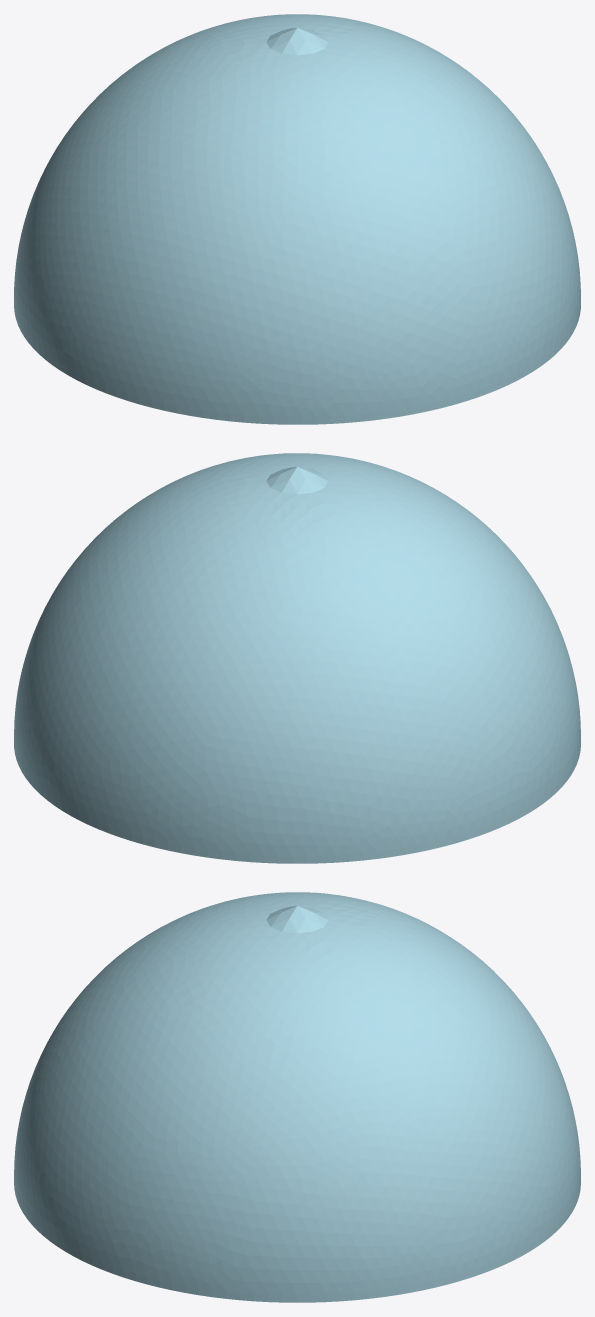
File: radial_alpha_medium.obj
3 views of the same model, one above another, from view 1: azimuth 30°, elevation 25°; view 2: azimuth 150°, elevation 25°; view 3: azimuth 270°, elevation 25° (orthographic).
Visible parts, largest first — view 1: grp1; view 2: grp1; view 3: grp1.
Boxes of the visible parts, <box> form: grp1: <box>14,14,580,424</box>; grp1: <box>14,453,580,863</box>; grp1: <box>14,892,580,1302</box>.
Bounding box in the file's own units: 0.14 × 0.0755 × 0.14.
